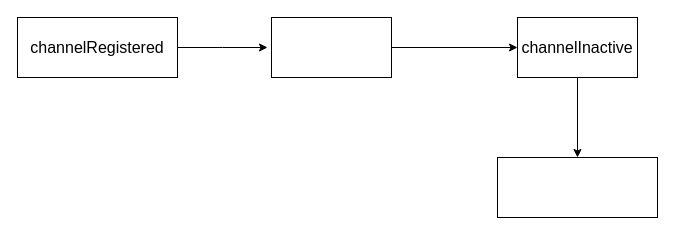
Image size: 675x235. Some labels were removed from this diagram. Here are the shapes that lost their labels. From the top down, the centre of each, then its label:
(331,47): channelActive
(577,187): channelUnregistered
